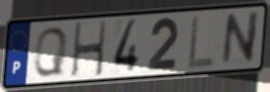2: (146, 15, 181, 73)
4: (110, 17, 141, 77)
H: (70, 19, 108, 80)
L: (186, 13, 216, 71)
N: (219, 10, 261, 68)
Q: (32, 25, 70, 79)
